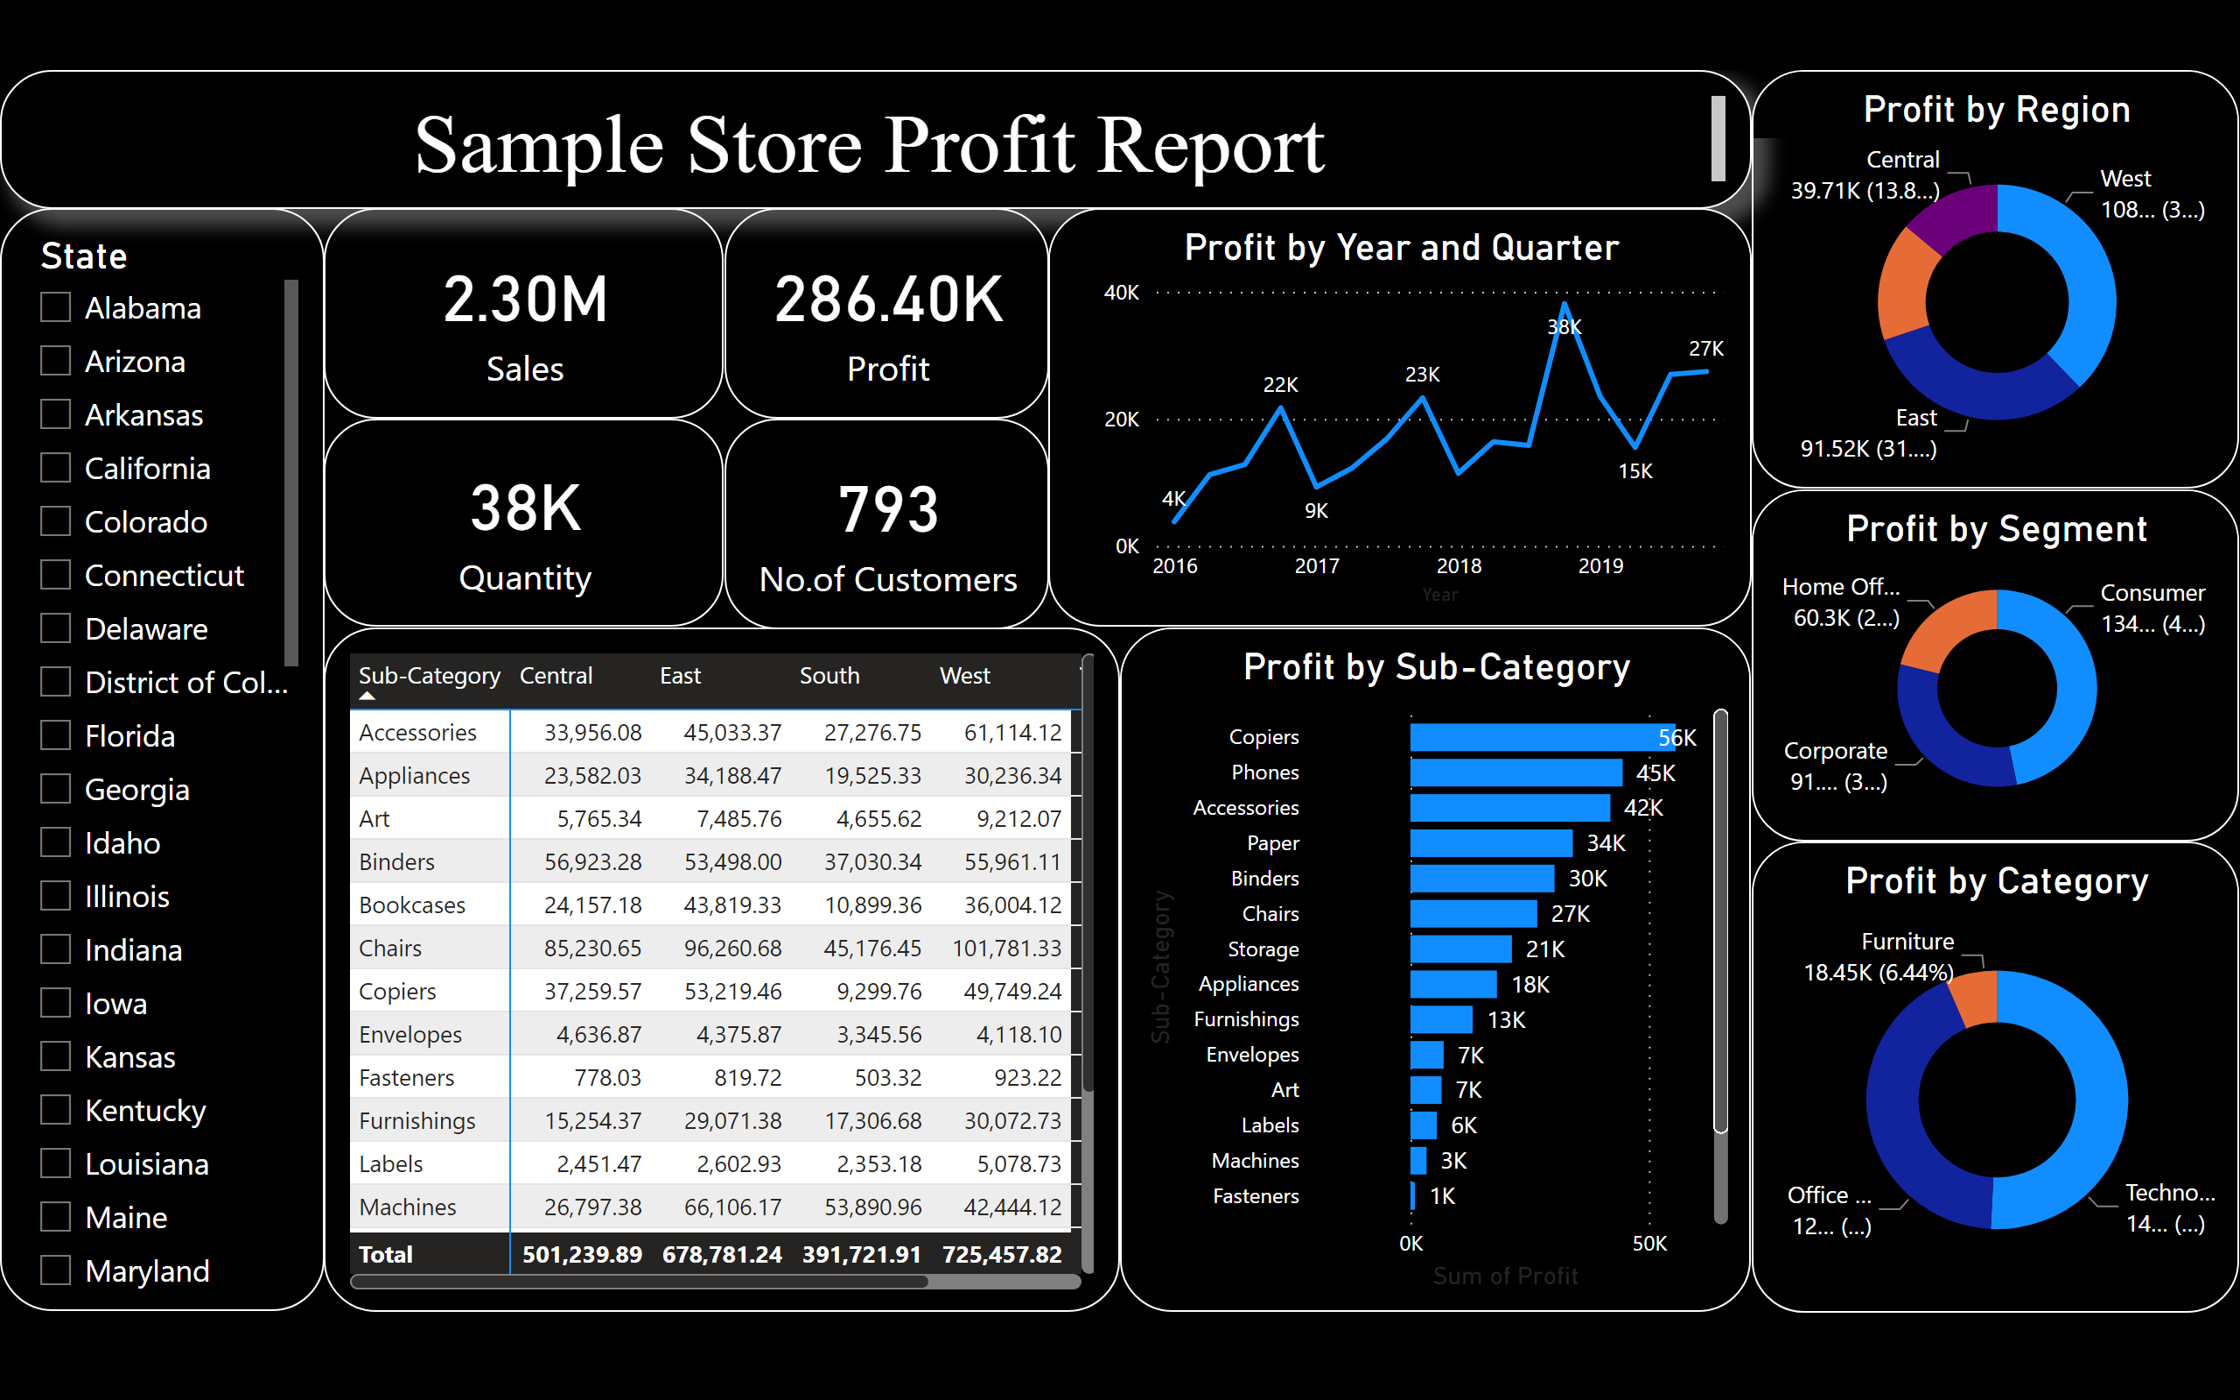

The dashboard page shown, as its layout file describes it:
{"tool":"powerbi","page":{"name":"Sample Store Profit Report","canvas":[1280,720],"ordinal":0},"visuals":[{"type":"textbox","title":"Super store Data","box":[0,0,1000.9,80.4],"z":0},{"type":"donutChart","title":"Profit by Category","fields":{"Y":["Sum(Orders.Profit)"],"Category":["Orders.Category"]},"box":[1000.9,446.6,278.6,272.9],"z":1000},{"type":"donutChart","title":"Profit by Region","fields":{"Y":["Sum(Orders.Profit)"],"Category":["Orders.Region"]},"box":[1000.9,0,278.6,242.7],"z":2000},{"type":"donutChart","title":"Profit by Segment","fields":{"Y":["Sum(Orders.Profit)"],"Category":["Orders.Segment"]},"box":[1000.9,242.7,278.6,203.9],"z":3000},{"type":"lineChart","title":"Profit by Year and Quarter","fields":{"Y":["Sum(Orders.Profit)"],"Category":["Orders.Order Date.Variation.Date Hierarchy.Year","Orders.Order Date.Variation.Date Hierarchy.Quarter"]},"box":[598.8,80.4,402.1,242.7],"z":4000},{"type":"barChart","title":"Profit by Sub-Category","fields":{"Y":["Sum(Orders.Profit)"],"Category":["Orders.Sub-Category"]},"box":[640.5,323.1,360.5,396.4],"z":5000},{"type":"slicer","fields":{"Values":["Orders.State"]},"box":[0,80.4,185.3,639],"z":6000},{"type":"pivotTable","fields":{"Rows":["Orders.Sub-Category"],"Columns":["Orders.Region"],"Values":["Sum(Orders.Sales)"]},"box":[185.3,323.1,455.2,396.4],"z":7000},{"type":"card","fields":{"Values":["Sum(Orders.Sales)"]},"box":[185.3,80.4,228.3,122.1],"z":7001},{"type":"card","fields":{"Values":["Sum(Orders.Quantity)"]},"box":[185.3,202.5,228.3,120.6],"z":7002},{"type":"card","fields":{"Values":["Sum(Orders.Profit)"]},"box":[413.6,80.4,185.3,122.1],"z":7003},{"type":"card","fields":{"Values":["Count(Orders.Customer ID)"]},"box":[413.6,202.5,185.3,122.1],"z":7004}]}

Visuals, with their boxes in screenshot pixels (x1, y1, x2, y2):
"Super store Data" textbox: [18, 64, 1745, 203]
"Profit by Category" donutChart: [1745, 835, 2226, 1306]
"Profit by Region" donutChart: [1745, 64, 2226, 483]
"Profit by Segment" donutChart: [1745, 483, 2226, 835]
"Profit by Year and Quarter" lineChart: [1051, 203, 1745, 622]
"Profit by Sub-Category" barChart: [1123, 622, 1745, 1306]
slicer - Orders.State: [18, 203, 337, 1306]
pivotTable - Orders.Sub-Category x Orders.Region: [337, 622, 1123, 1306]
card - Sum(Orders.Sales): [337, 203, 731, 414]
card - Sum(Orders.Quantity): [337, 414, 731, 622]
card - Sum(Orders.Profit): [731, 203, 1051, 414]
card - Count(Orders.Customer ID): [731, 414, 1051, 624]
